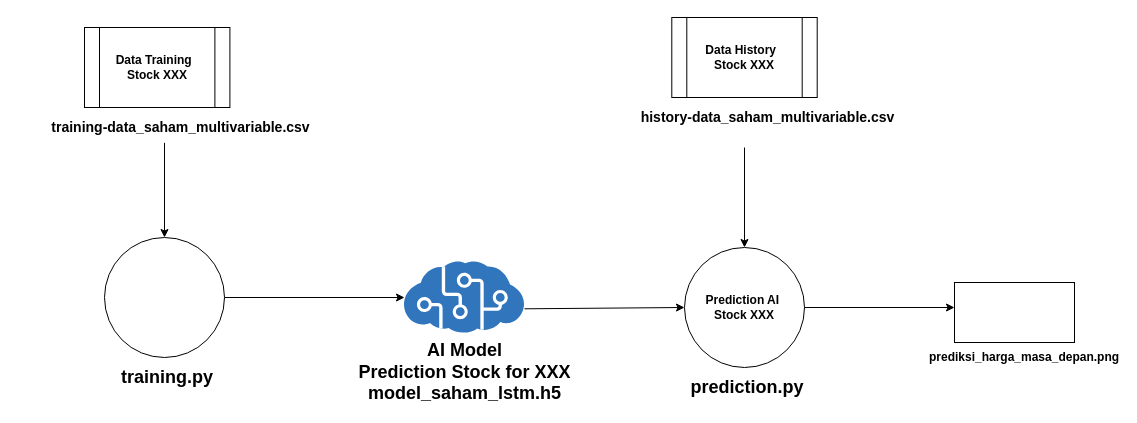
This 1137x423 diagram has some shape labels left out. The centre of each missing label's shape, as x and y in pixels:
"5-day stock xxx price forecast" belongs at (x=1014, y=312).
"Training AI Mechine Learning" belongs at (x=164, y=297).
